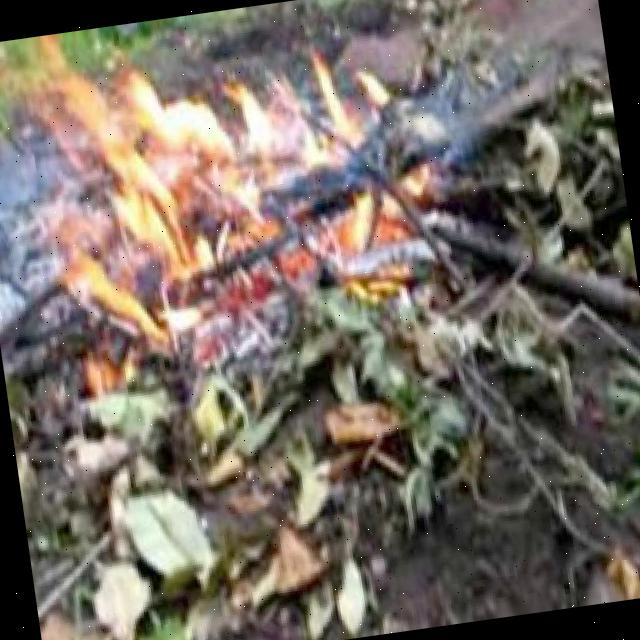fire: (12, 11, 468, 368)
